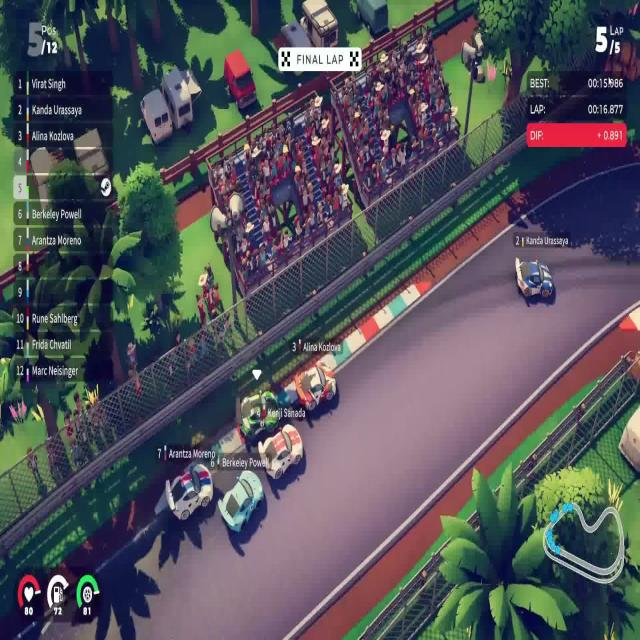car: (217, 467, 264, 534), (164, 460, 213, 522), (257, 422, 304, 481), (238, 388, 280, 447), (292, 362, 336, 412), (514, 256, 554, 302)
